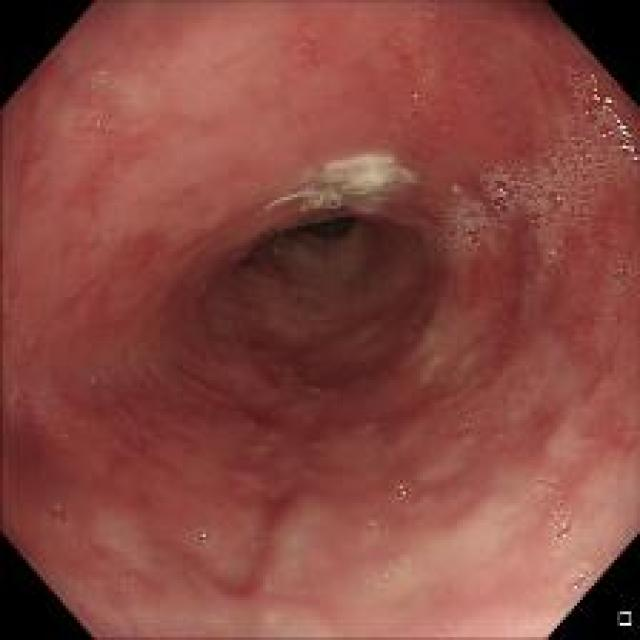bubbles: (445, 130, 630, 276), (1, 380, 59, 428), (38, 490, 81, 534), (374, 548, 414, 586), (188, 518, 224, 560), (550, 502, 574, 548), (558, 564, 592, 595), (456, 400, 486, 435), (384, 472, 418, 502), (78, 366, 110, 390), (536, 471, 564, 498), (405, 75, 432, 101), (355, 316, 376, 338), (365, 515, 384, 535), (258, 580, 276, 598), (484, 428, 499, 449), (604, 298, 618, 320), (420, 349, 435, 369), (442, 621, 458, 636), (58, 430, 71, 444), (628, 418, 638, 436), (249, 538, 262, 551)
contrast: (274, 208, 369, 254)
